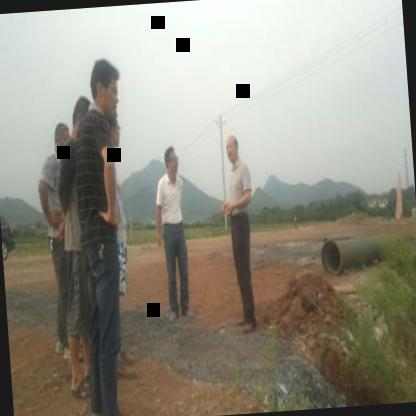head: (88, 54, 124, 121), (70, 93, 96, 146), (102, 108, 125, 154), (50, 121, 72, 162), (161, 140, 182, 180), (222, 130, 244, 168)
